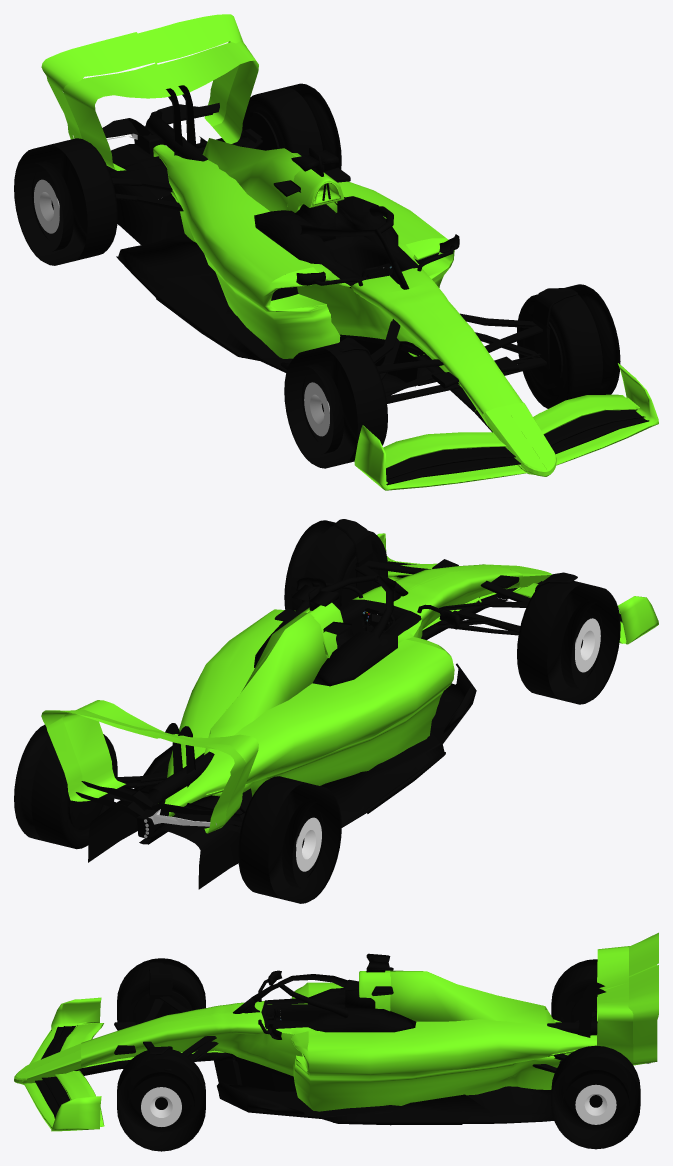
3 renders of one model, top to bottom at view 1: azimuth 30°, elevation 25°; view 2: azimuth 150°, elevation 25°; view 3: azimuth 270°, elevation 25°, orthographic. The views are drawn at different scales.
Parts seen in each view (by area): view 1: Plane.053, Plane.030, Plane.004, Cylinder.019, Cylinder.018, Plane.016, Cylinder.007, Plane.031, Cylinder.004, Plane.022, Plane, Plane.045 (+19 smaller); view 2: Plane.030, Cylinder.019, Cylinder.018, Plane.053, Plane.031, Plane.016, Cylinder.004, Plane, Plane.004, Plane.022, Cylinder.007, Plane.020 (+11 smaller); view 3: Plane, Plane.004, Plane.016, Cylinder.004, Cylinder.007, Plane.053, Plane.031, Cylinder.018, Plane.002, Plane.005, Cylinder.019, Plane.035 (+18 smaller).
Boxes of the visible parts, x1,y1,x2,y2 form: Plane.053: [41, 14, 258, 170]; Plane.030: [153, 144, 352, 358]; Plane.004: [297, 258, 522, 432]; Cylinder.019: [14, 138, 117, 265]; Cylinder.018: [284, 343, 387, 468]; Plane.016: [116, 234, 433, 391]; Cylinder.007: [517, 284, 620, 408]; Plane.031: [202, 138, 344, 212]; Cylinder.004: [240, 83, 341, 171]; Plane.022: [107, 136, 206, 244]; Plane: [158, 144, 454, 287]; Plane.045: [483, 402, 556, 476]; Plane.030: [165, 619, 454, 816]; Cylinder.019: [238, 776, 341, 903]; Cylinder.018: [517, 581, 620, 704]; Plane.053: [41, 700, 258, 833]; Plane.031: [204, 602, 343, 754]; Plane.016: [134, 663, 476, 827]; Cylinder.004: [14, 724, 117, 849]; Plane: [158, 609, 295, 804]; Plane.004: [352, 564, 523, 639]; Plane.022: [88, 782, 242, 889]; Cylinder.007: [284, 520, 387, 610]; Plane.020: [313, 605, 421, 686]; Plane: [266, 1019, 596, 1111]; Plane.004: [80, 1001, 307, 1079]; Plane.016: [217, 1081, 554, 1125]; Cylinder.004: [551, 1045, 640, 1149]; Cylinder.007: [117, 1049, 205, 1151]; Plane.053: [597, 932, 658, 1065]; Plane.031: [359, 970, 555, 1024]; Cylinder.018: [117, 958, 205, 1022]; Plane.002: [261, 1007, 416, 1032]; Plane.005: [24, 1083, 101, 1131]; Cylinder.019: [551, 959, 597, 1022]; Plane.035: [29, 997, 101, 1063].
Bounding box in the file's own units: 1.78 × 1.08 × 4.45.
